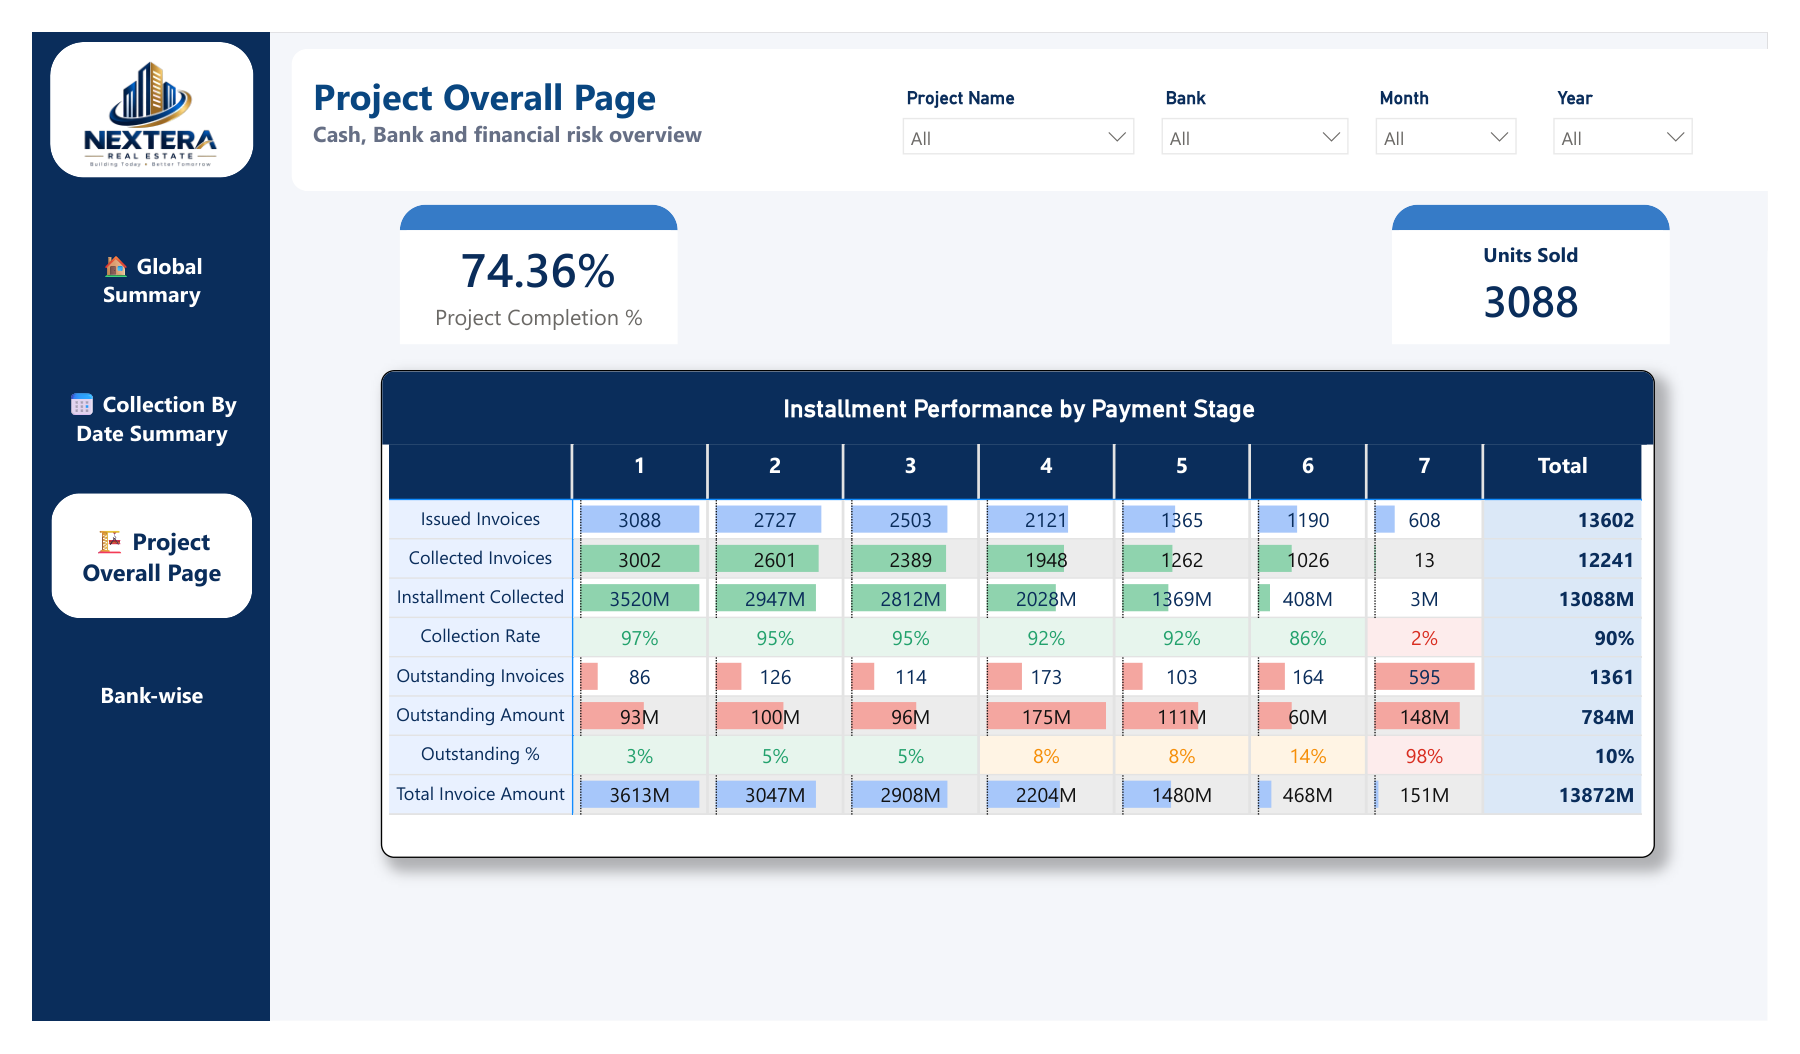

Layout of this report page (visuals, bound fields, positions):
{"tool":"powerbi","page":{"name":"🏗️ Project Overall Page","canvas":[1280,729],"ordinal":2},"visuals":[{"type":"shape","box":[0,0,175.4,890],"z":0},{"type":"pageNavigator","box":[13.6,136.2,148.8,400.7],"z":1000},{"type":"shape","box":[190.5,11.5,1114.8,105.7],"z":2000},{"type":"shape","box":[12.6,6.8,150,100],"z":3000},{"type":"image","box":[12.6,6.8,148.8,107],"z":4000},{"type":"textbox","box":[202.3,23.3,575.8,73.9],"z":5000},{"type":"slicer","fields":{"Values":["Dim Project.Project Name"]},"box":[632.2,36,190.6,55.4],"z":6000},{"type":"slicer","fields":{"Values":["Dim Bank.Bank"]},"box":[822.9,36,158.5,60.3],"z":7000},{"type":"slicer","fields":{"Values":["DimDate.Month Name"]},"box":[981.4,36,123.5,61.3],"z":8000},{"type":"slicer","fields":{"Values":["DimDate.Year"]},"box":[1111.7,36,123.5,61.3],"z":9000},{"type":"pivotTable","title":"Installment Performance by Payment Stage","fields":{"Values":["Dax.Issued Installments Count","Dax.Collected Invoices","Dax.Installment Collected","Dax.Installment Collection Rate","Dax.Installment Outstanding Count","Dax.Installment Outstanding","Dax.Installment Outstanding %","Dax.Installment Total Invoice Amount"],"Columns":["Dim Payment.Payment Number"]},"box":[256.8,248.7,940,360],"z":10000},{"type":"shape","box":[1002.8,127.5,204.7,18.9],"z":11000},{"type":"cardVisual","fields":{"Data":["Dax.# Sold"]},"box":[1002.8,146.3,204.7,83.5],"z":12000},{"type":"shape","box":[271.1,127.5,204.7,18.9],"z":13000},{"type":"cardVisual","fields":{"Data":["Dax.Project Completion %"]},"box":[271.1,146.3,204.7,83.5],"z":14000}]}

Visuals, with their boxes in screenshot pixels (x1, y1, x2, y2), scaled from the page's 1280x729 canvas onto the 1800x1054 screenshot:
shape: locate(0, 0, 247, 1053)
pageNavigator: locate(19, 197, 228, 776)
shape: locate(268, 17, 1799, 169)
shape: locate(18, 10, 229, 154)
image: locate(18, 10, 227, 165)
textbox: locate(284, 34, 1094, 141)
slicer - Dim Project.Project Name: locate(889, 52, 1157, 132)
slicer - Dim Bank.Bank: locate(1157, 52, 1380, 139)
slicer - DimDate.Month Name: locate(1380, 52, 1554, 141)
slicer - DimDate.Year: locate(1563, 52, 1737, 141)
"Installment Performance by Payment Stage" pivotTable: locate(361, 360, 1683, 880)
shape: locate(1410, 184, 1698, 212)
cardVisual - Dax.# Sold: locate(1410, 212, 1698, 332)
shape: locate(381, 184, 669, 212)
cardVisual - Dax.Project Completion %: locate(381, 212, 669, 332)
